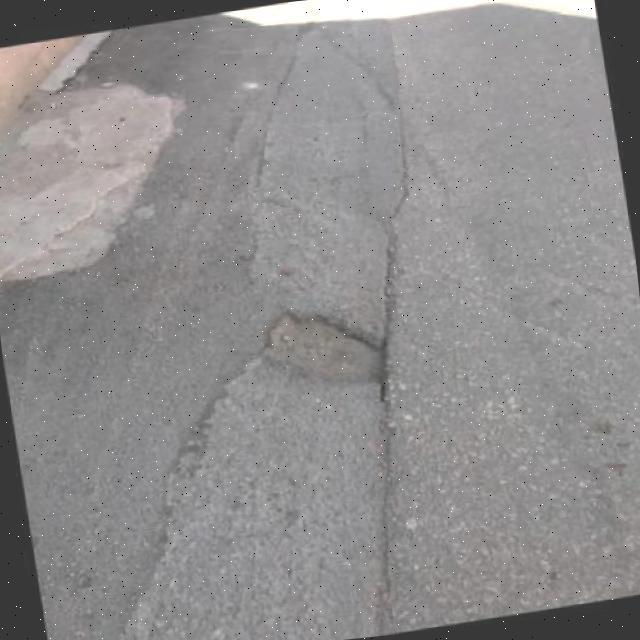Pothole: (263, 315, 385, 385)
